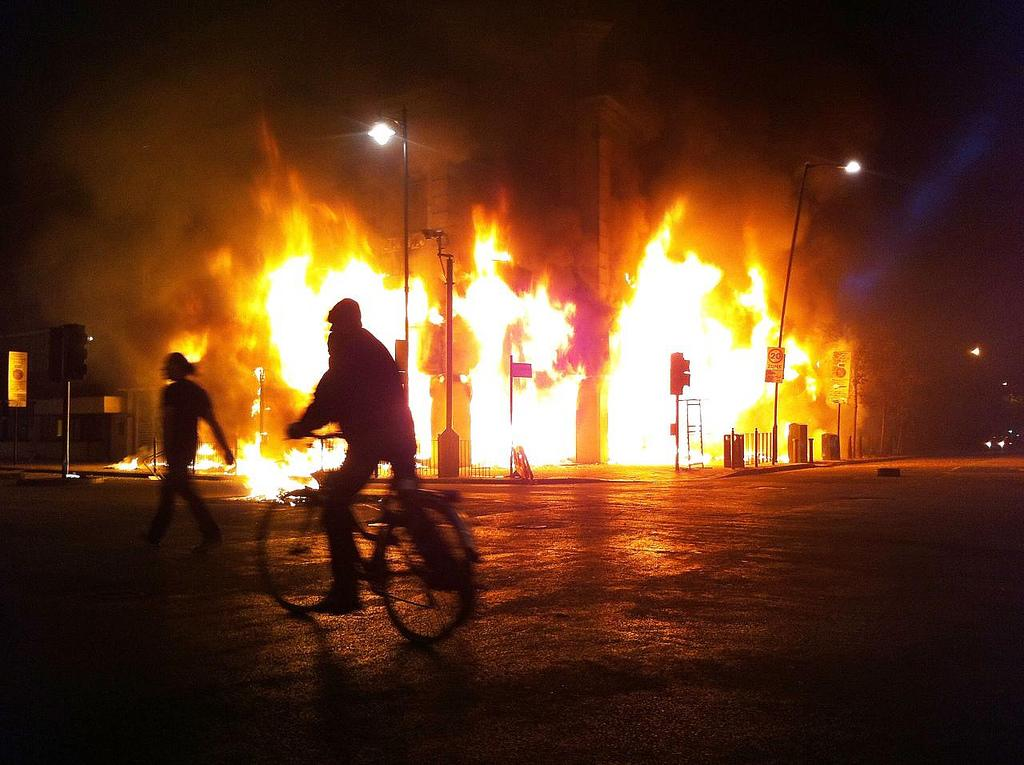fire: (610, 262, 784, 452), (468, 282, 580, 460), (268, 264, 332, 388), (358, 262, 426, 358)
